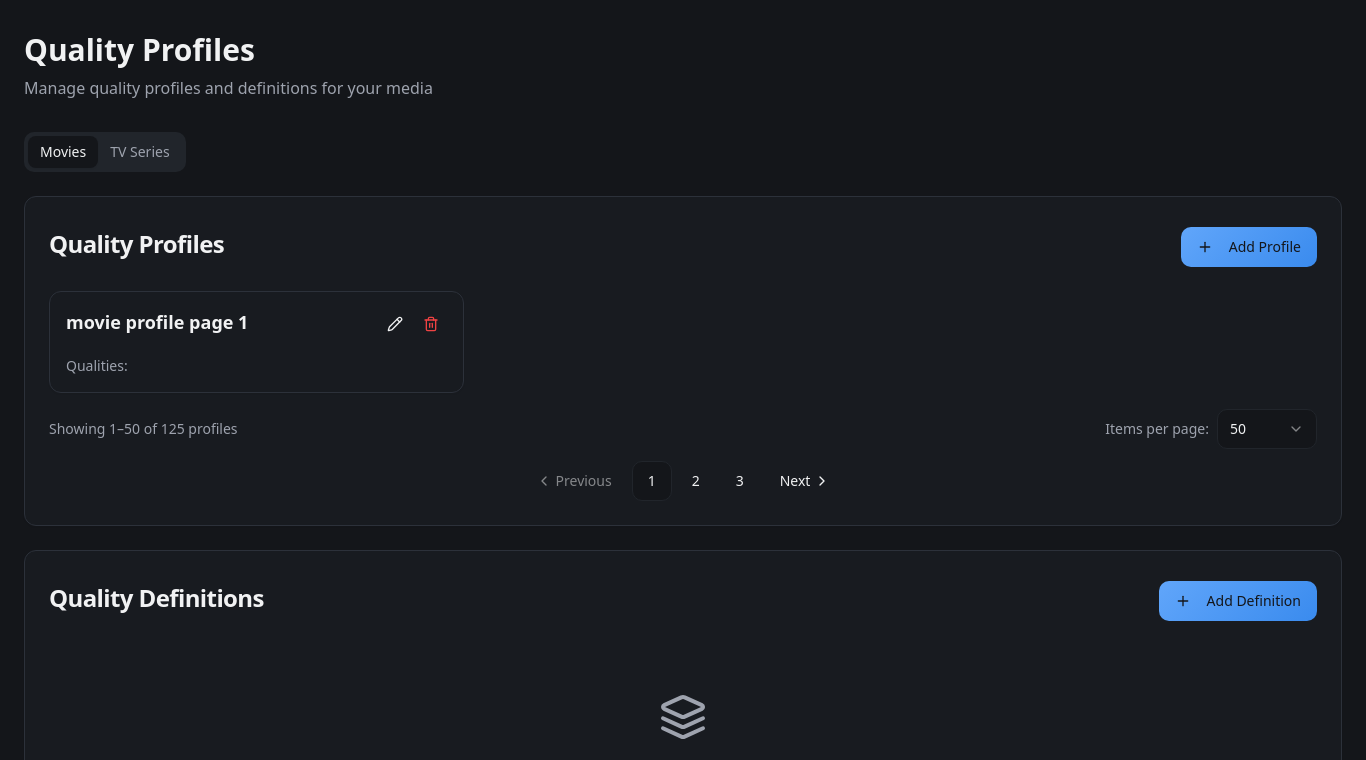
Test: configuration pagination › filters quality profiles by tab and resets pagination when switching to series
This screenshot has width=1366, height=760.
expect the text "Showing 1–50 of 125 profiles" is shown: met, box [49, 419, 238, 439]
Step 1. Press the mouse on the tab "TV Series" → {"x": 140, "y": 152}, box [98, 136, 182, 168]
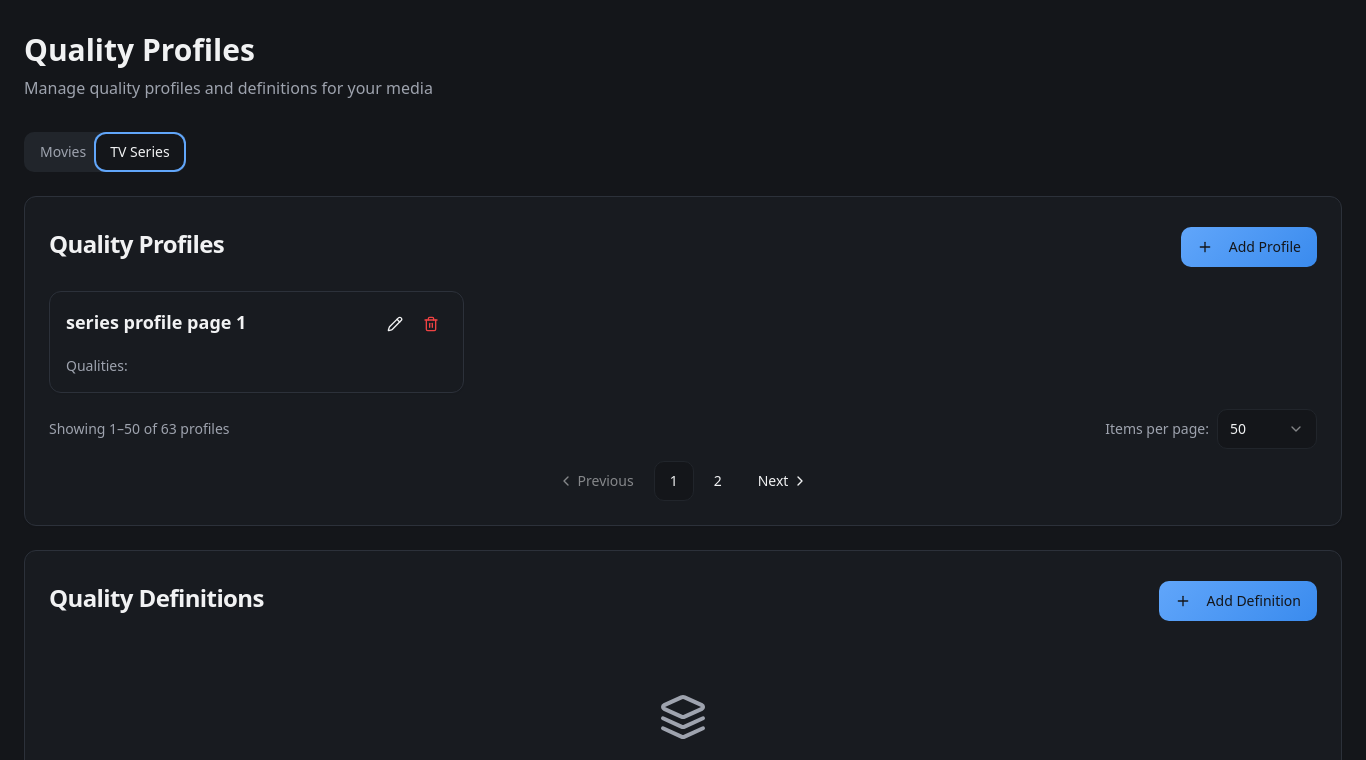
expect the text "Showing 1–50 of 63 profiles" is shown: met, box [49, 419, 230, 439]
expect the text "series profile page 1" is shown: met, box [66, 310, 246, 334]
Step 2. Click the button "Next" → {"x": 780, "y": 481}, box [742, 461, 818, 501]
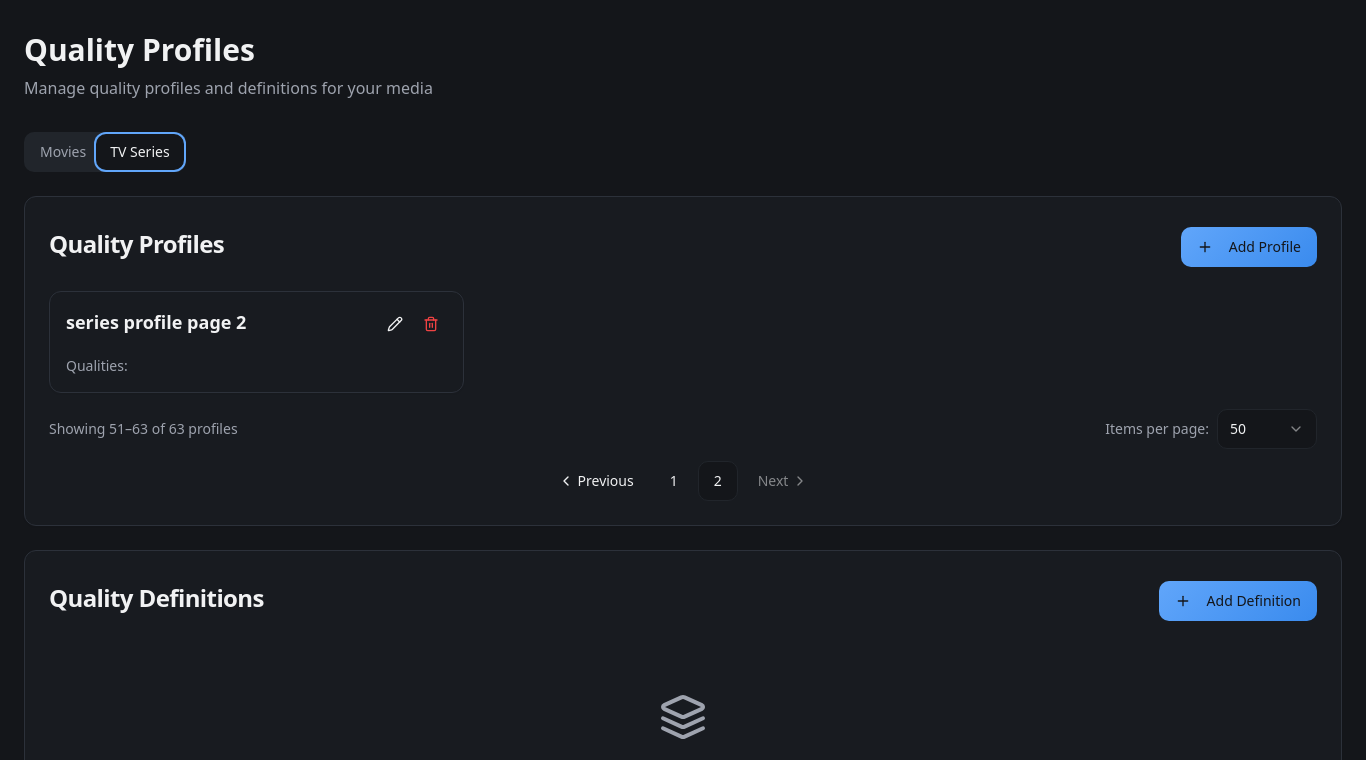
expect the text "Showing 51–63 of 63 profiles" is shown: met, box [49, 419, 238, 439]
expect the text "series profile page 2" is shown: met, box [66, 310, 246, 334]
